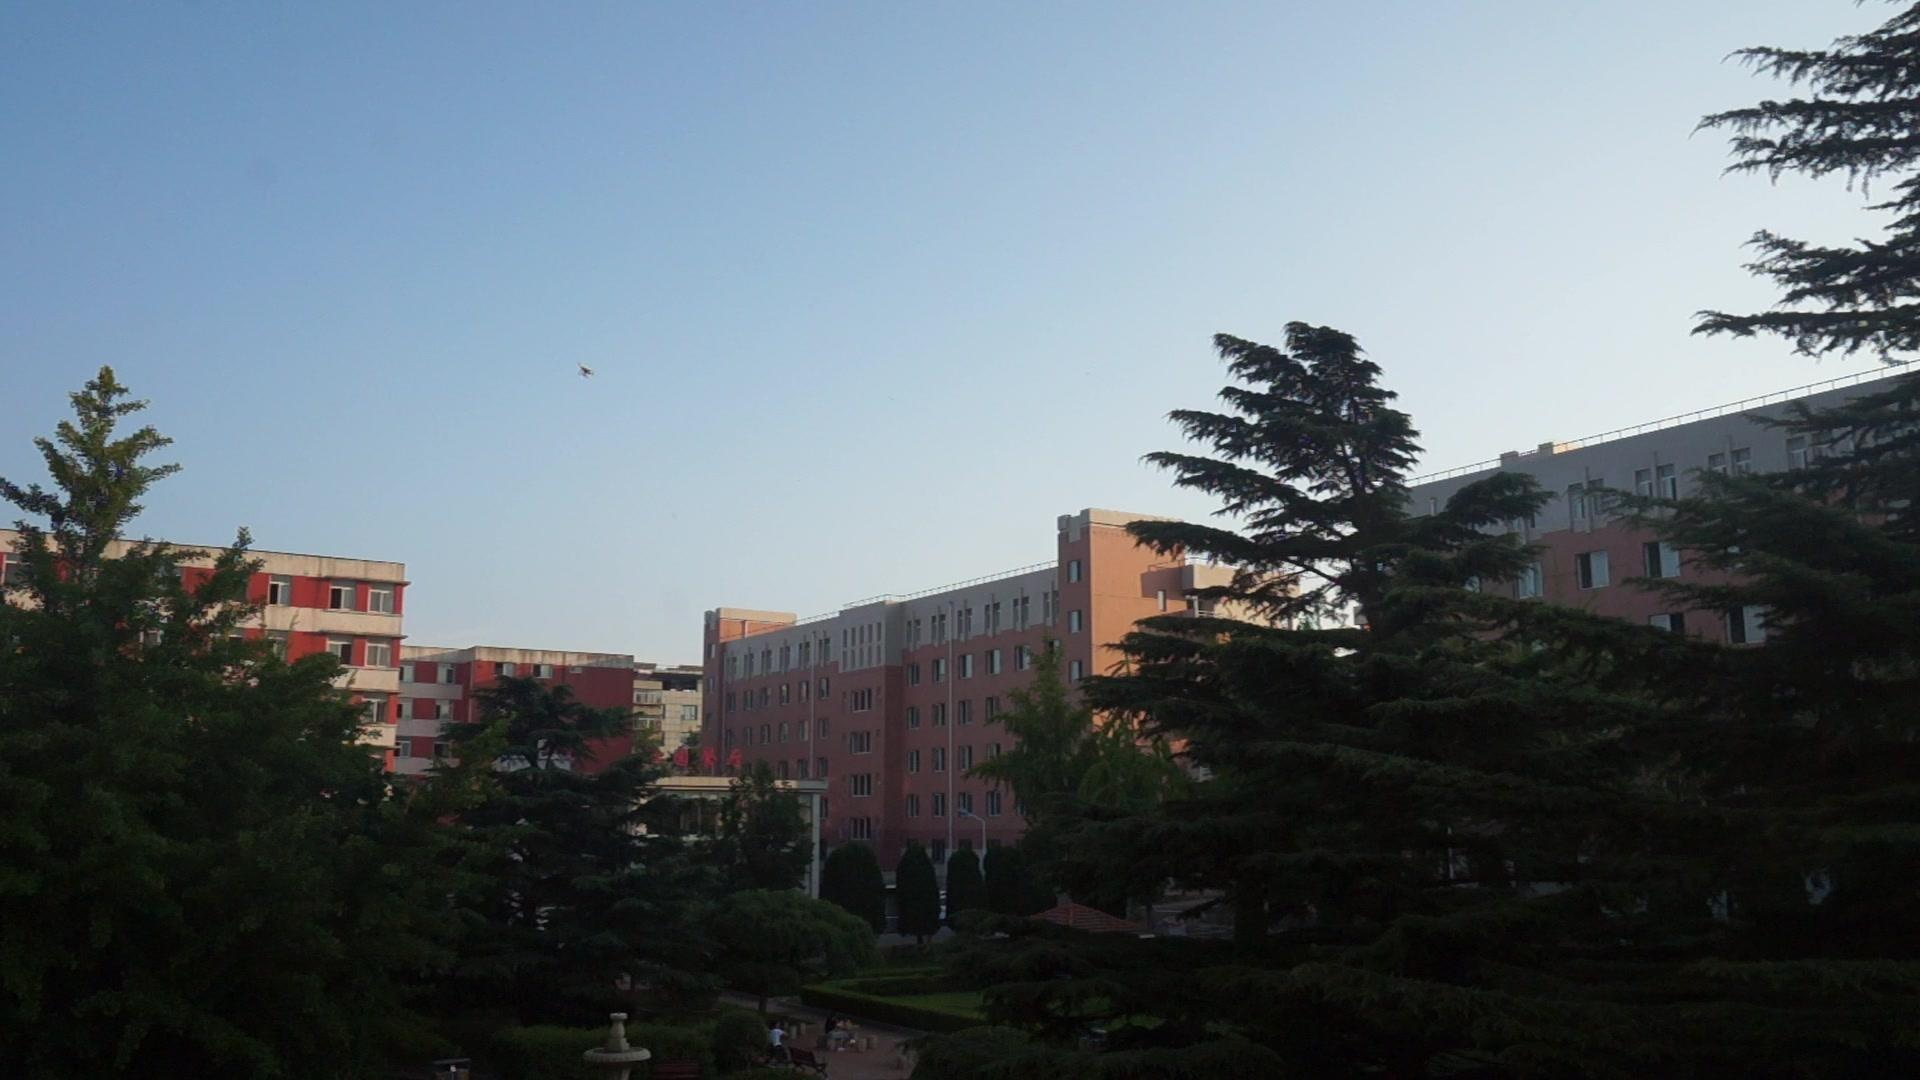UAV: (578, 363, 596, 380)
